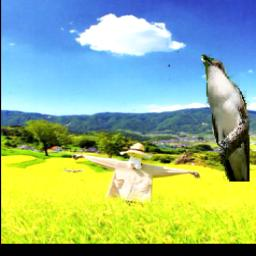Cuckoo: (202, 55, 251, 183)
